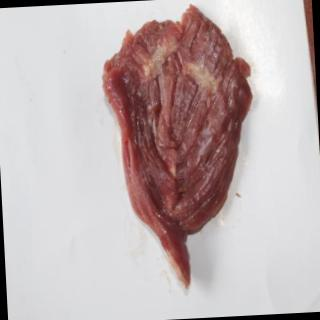Daging Sapi: (101, 2, 264, 293)
